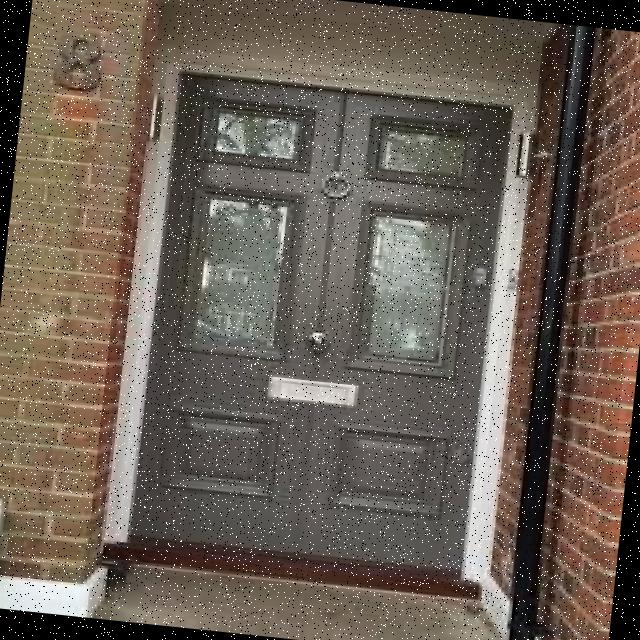Door: (124, 61, 518, 580)
